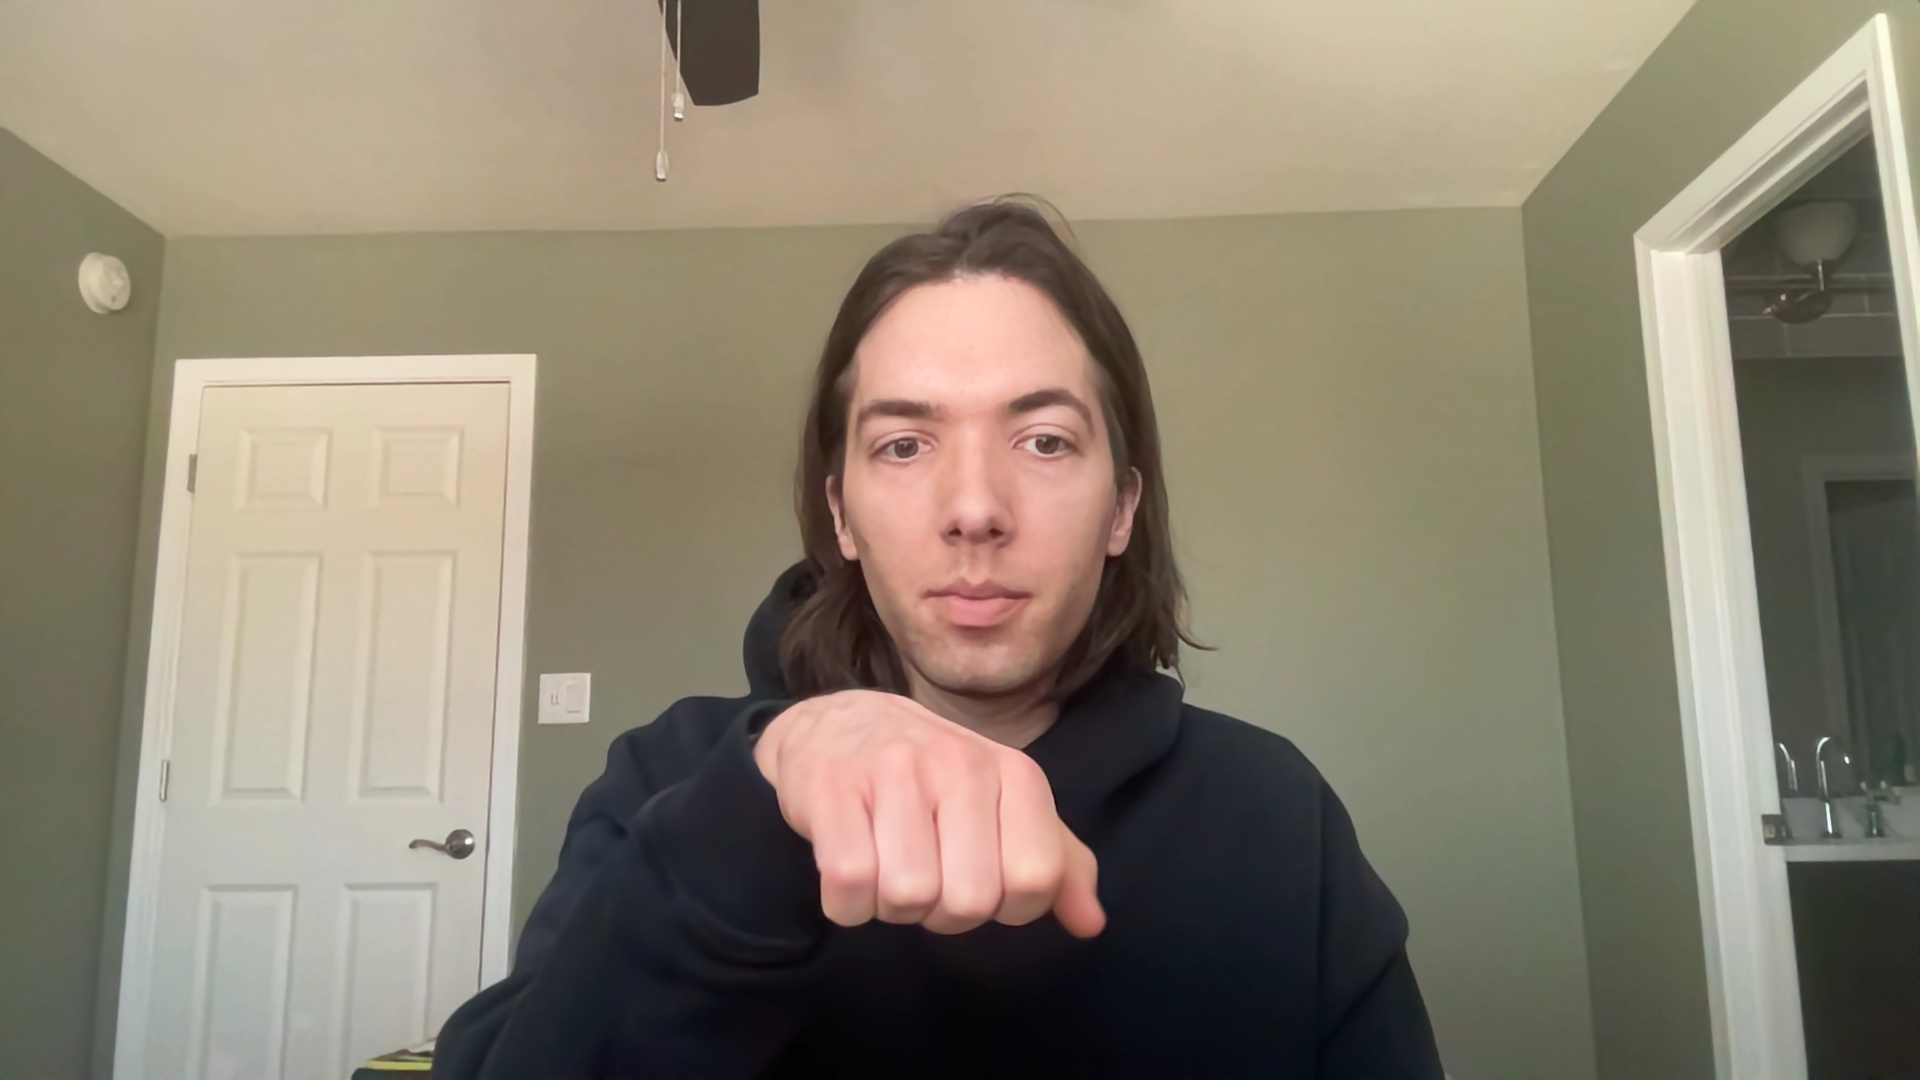Yes: (721, 669, 1133, 993)
